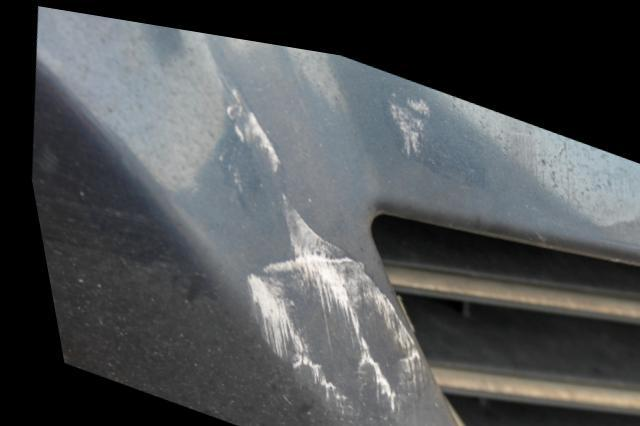scratch: (215, 91, 416, 416)
